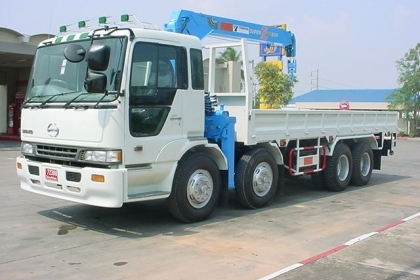truck: (16, 24, 399, 221)
